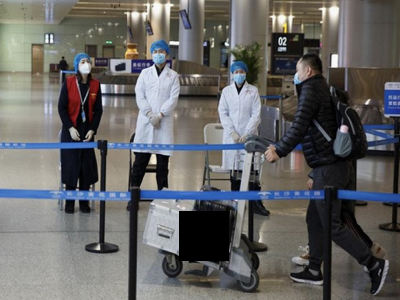with_mask: (292, 64, 305, 86), (78, 58, 92, 75), (153, 48, 167, 65), (234, 68, 247, 86)
